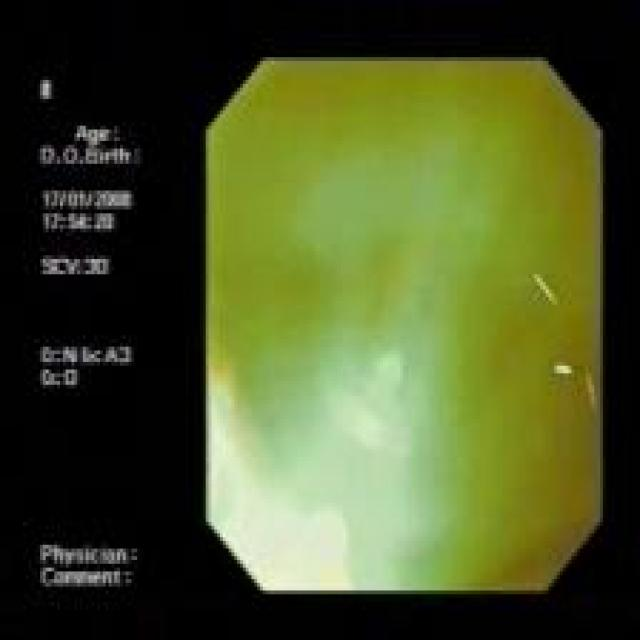color misalignment: (205, 58, 601, 591), (27, 71, 158, 594)
saturation: (209, 391, 404, 598)
